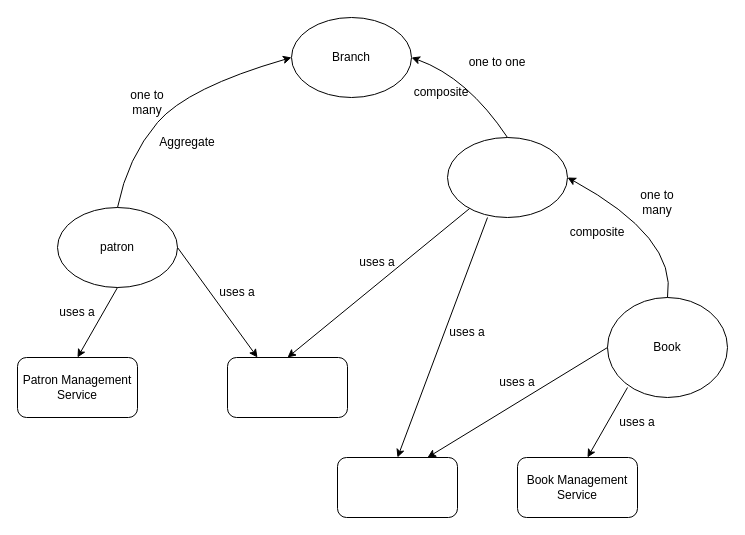
Image size: 745x535. Some labels were removed from this diagram. Each missing label, with the box of its shape:
Inventory: (446, 136, 568, 218)
Inventory Management Service: (336, 456, 458, 518)
Lending Management service: (226, 356, 348, 418)
